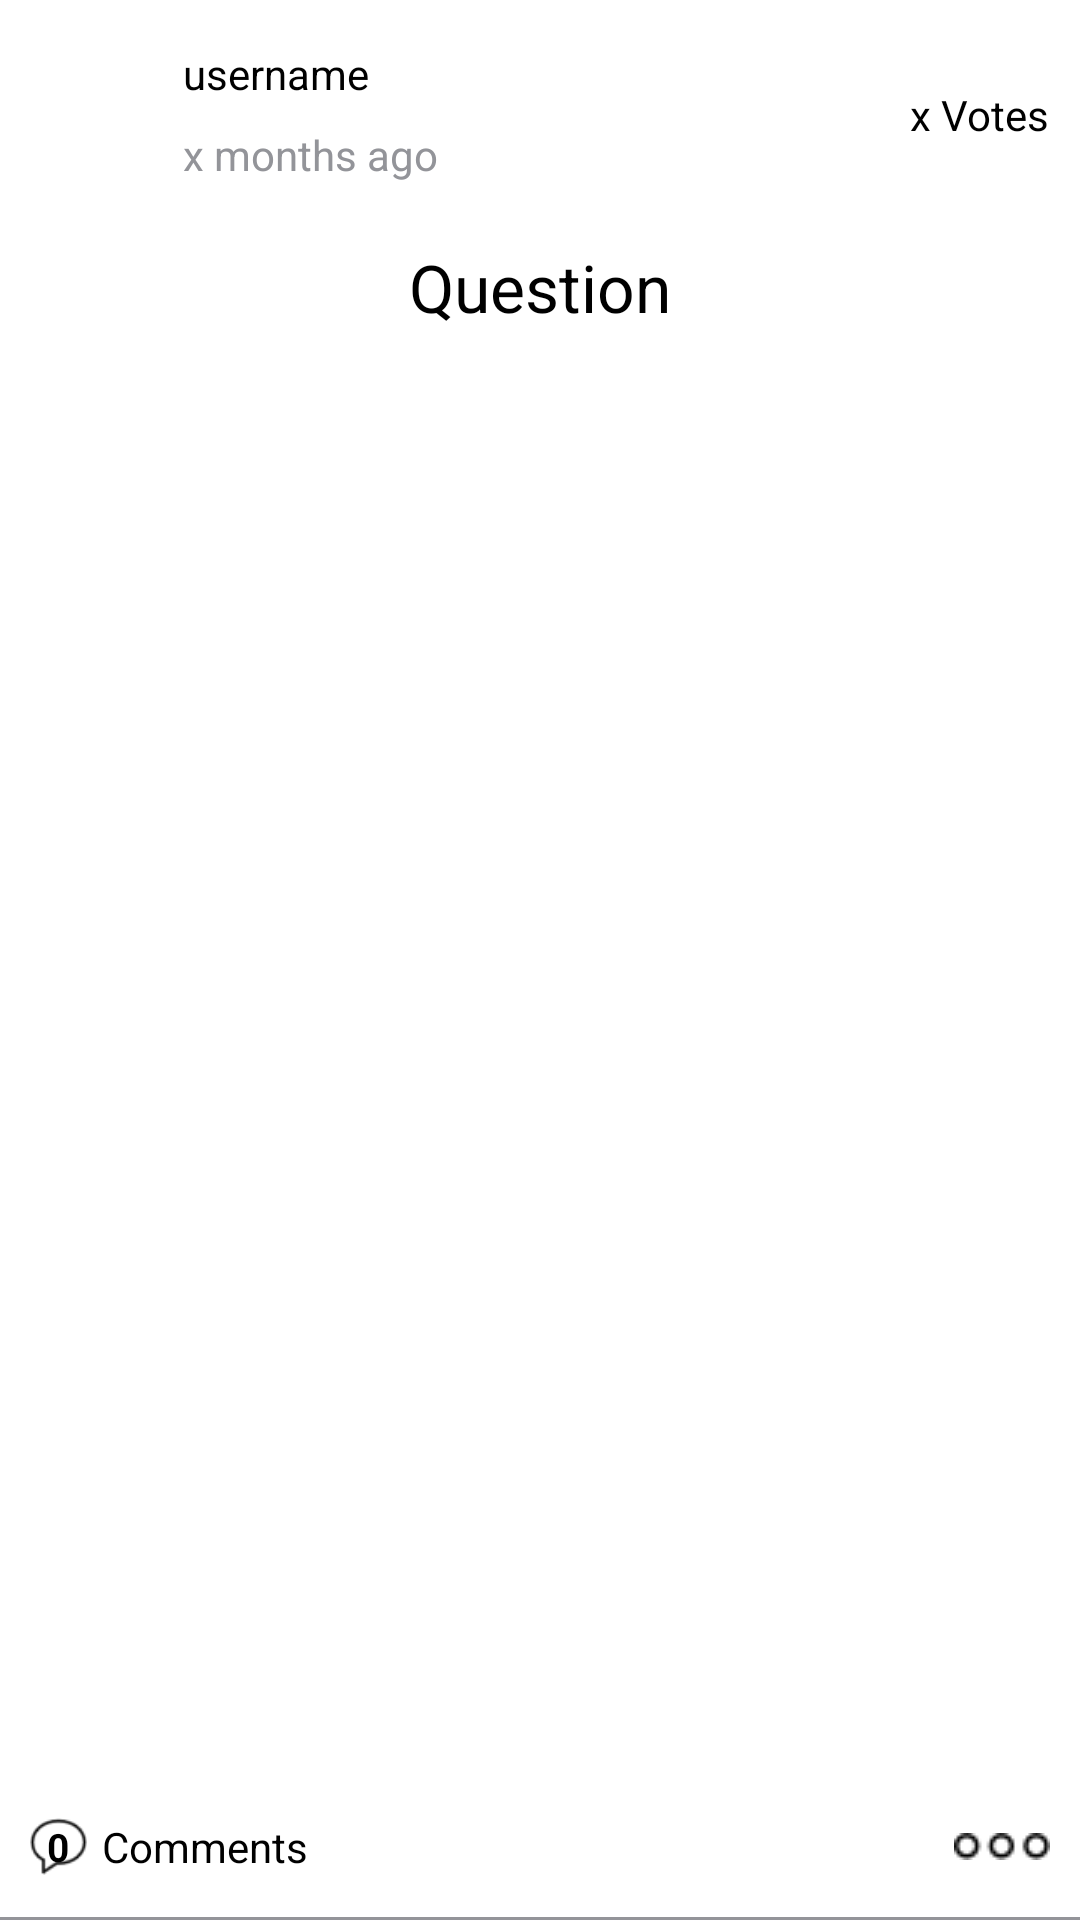

Point at icon controls on the screen. Image size 1080px×1920px, points as (x,y).
more: (1002,1846)
